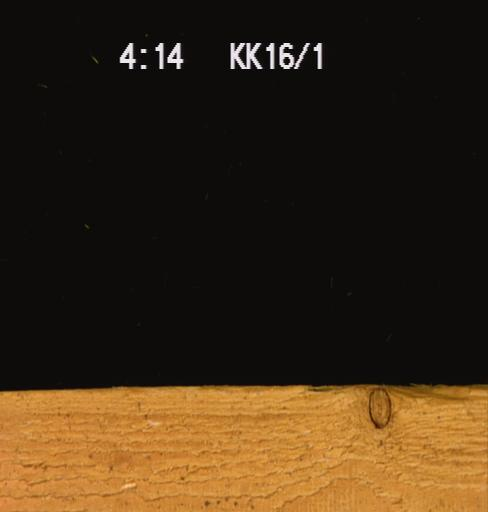dry_knot: (366, 387, 391, 428)
wave: (305, 382, 487, 394)
